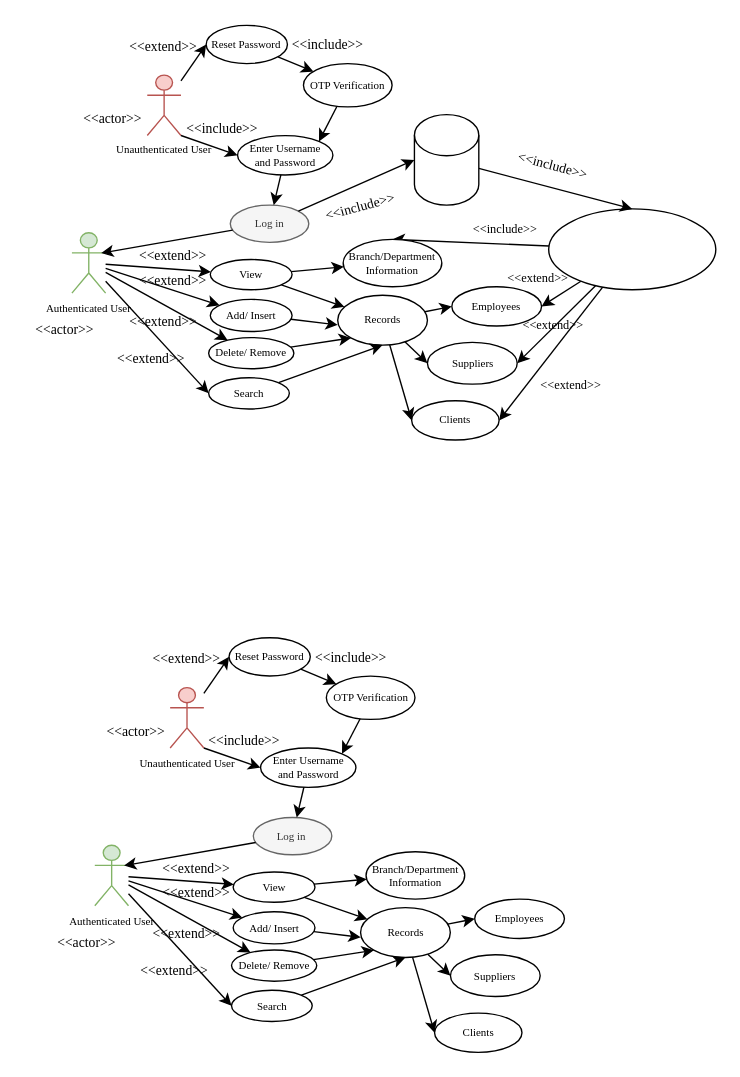
Some shapes in this 740 by 1077 pixel diagram are drawn without their labels. The centre of each missing label's shape, as x and y in pixels:
Organization/Cable Manufacturing Company: point 631,249
SQL: point 446,159
